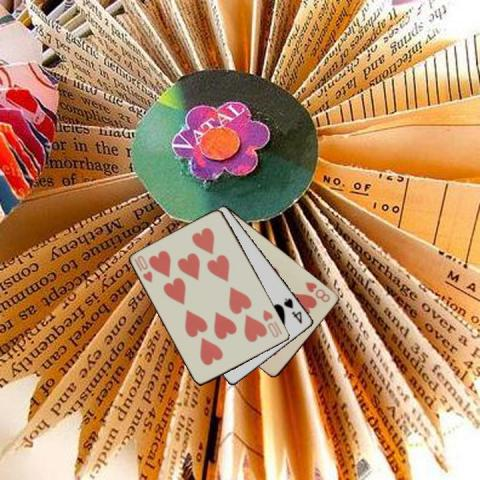10h: (260, 307, 284, 339), (131, 252, 154, 284)
4s: (281, 296, 304, 326)
8h: (302, 279, 332, 304)
